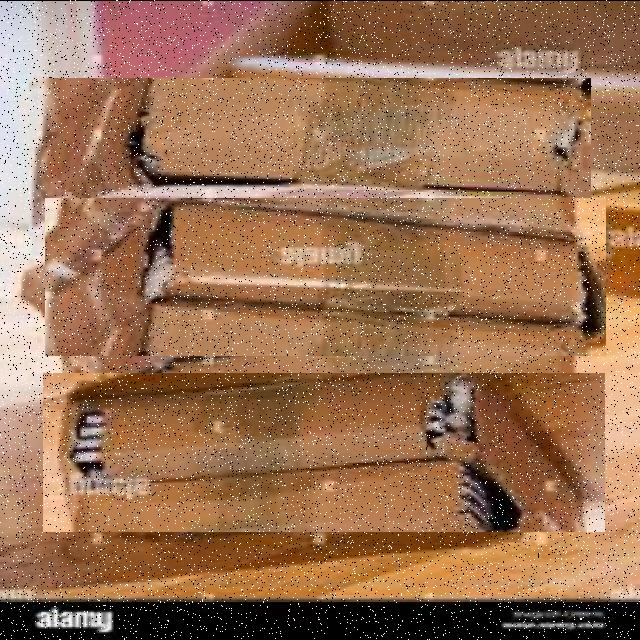defect: (43, 372, 605, 531), (29, 77, 591, 235), (12, 280, 574, 438), (45, 197, 606, 355)
